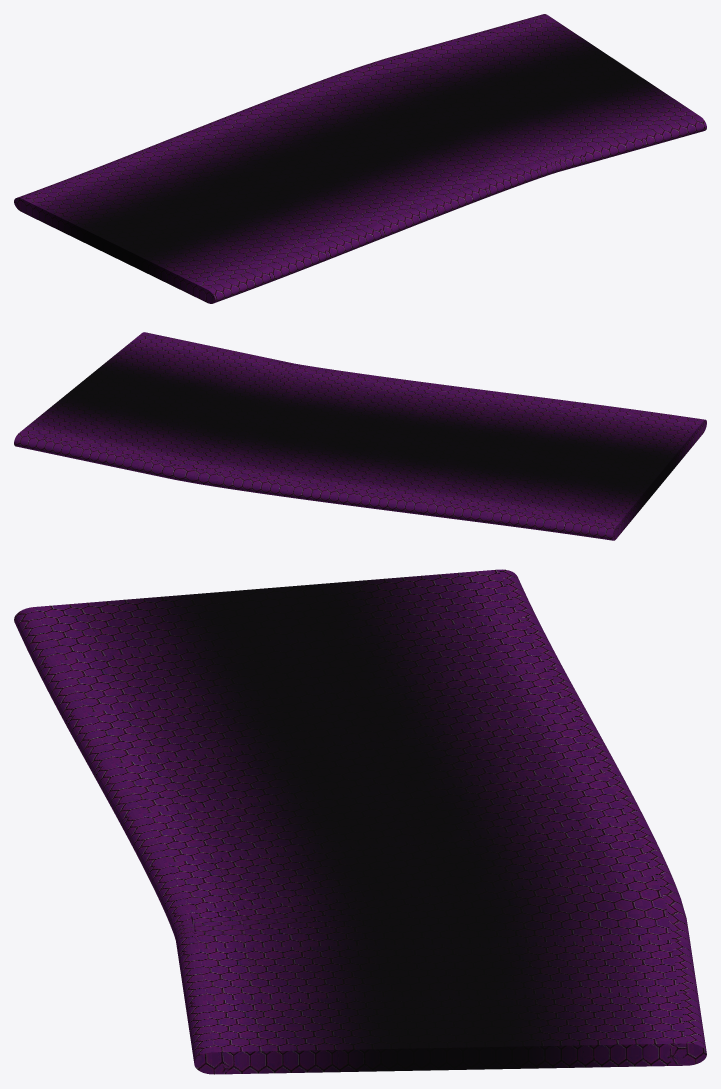
The model's file is level-02-track-07.glb.
3 views of the same model, one above another, from view 1: azimuth 30°, elevation 25°; view 2: azimuth 150°, elevation 25°; view 3: azimuth 270°, elevation 25° (orthographic). The views are drawn at different scales.
Parts seen in each view (by area): view 1: track-07; view 2: track-07; view 3: track-07.
Boxes of the visible parts, x1,y1,x2,y2 form: track-07: (14,14,706,303); track-07: (14,332,706,540); track-07: (14,569,706,1074).
Size of the model in its own units: 18.66 by 0.4 by 11.28.
Materials: 2 (2 with a texture image).
